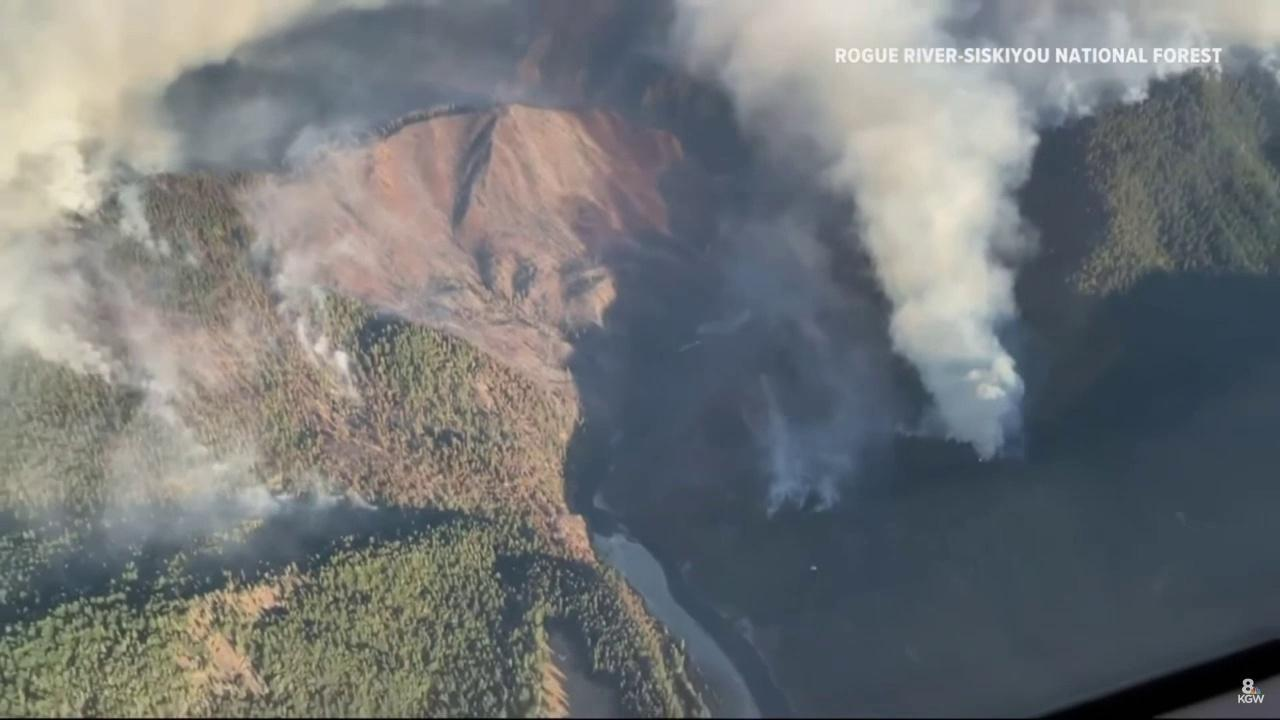smoke: (643, 0, 1280, 523), (0, 0, 543, 571)
